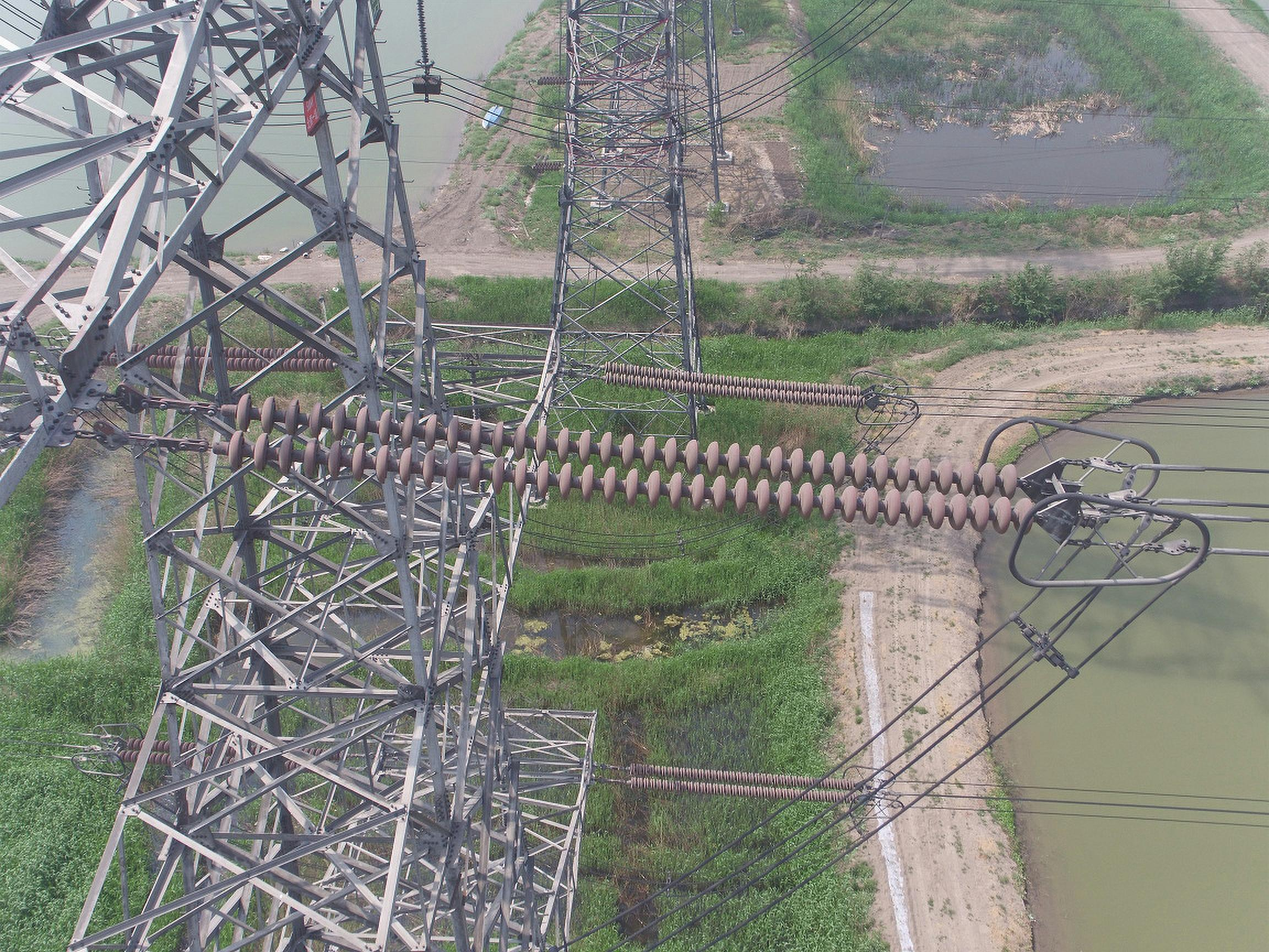insulator: (225, 390, 1039, 539), (601, 359, 867, 411), (626, 761, 859, 805), (117, 735, 346, 774), (101, 340, 339, 375), (415, 1, 431, 63)
